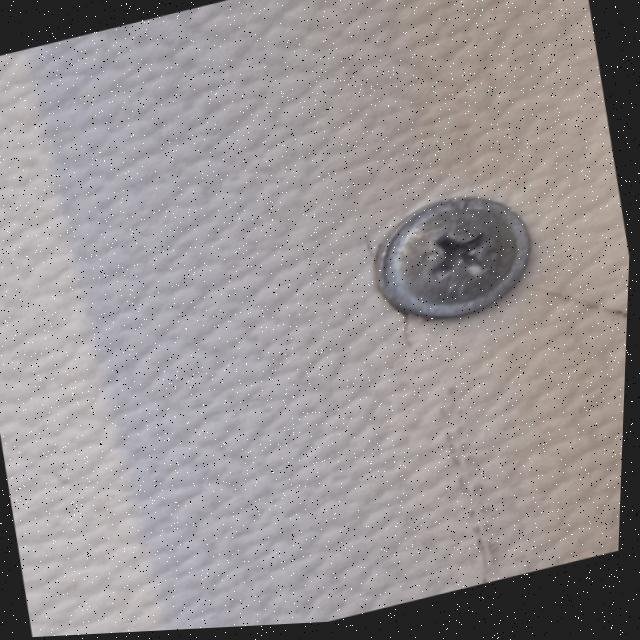Phillips: (358, 171, 554, 354)
